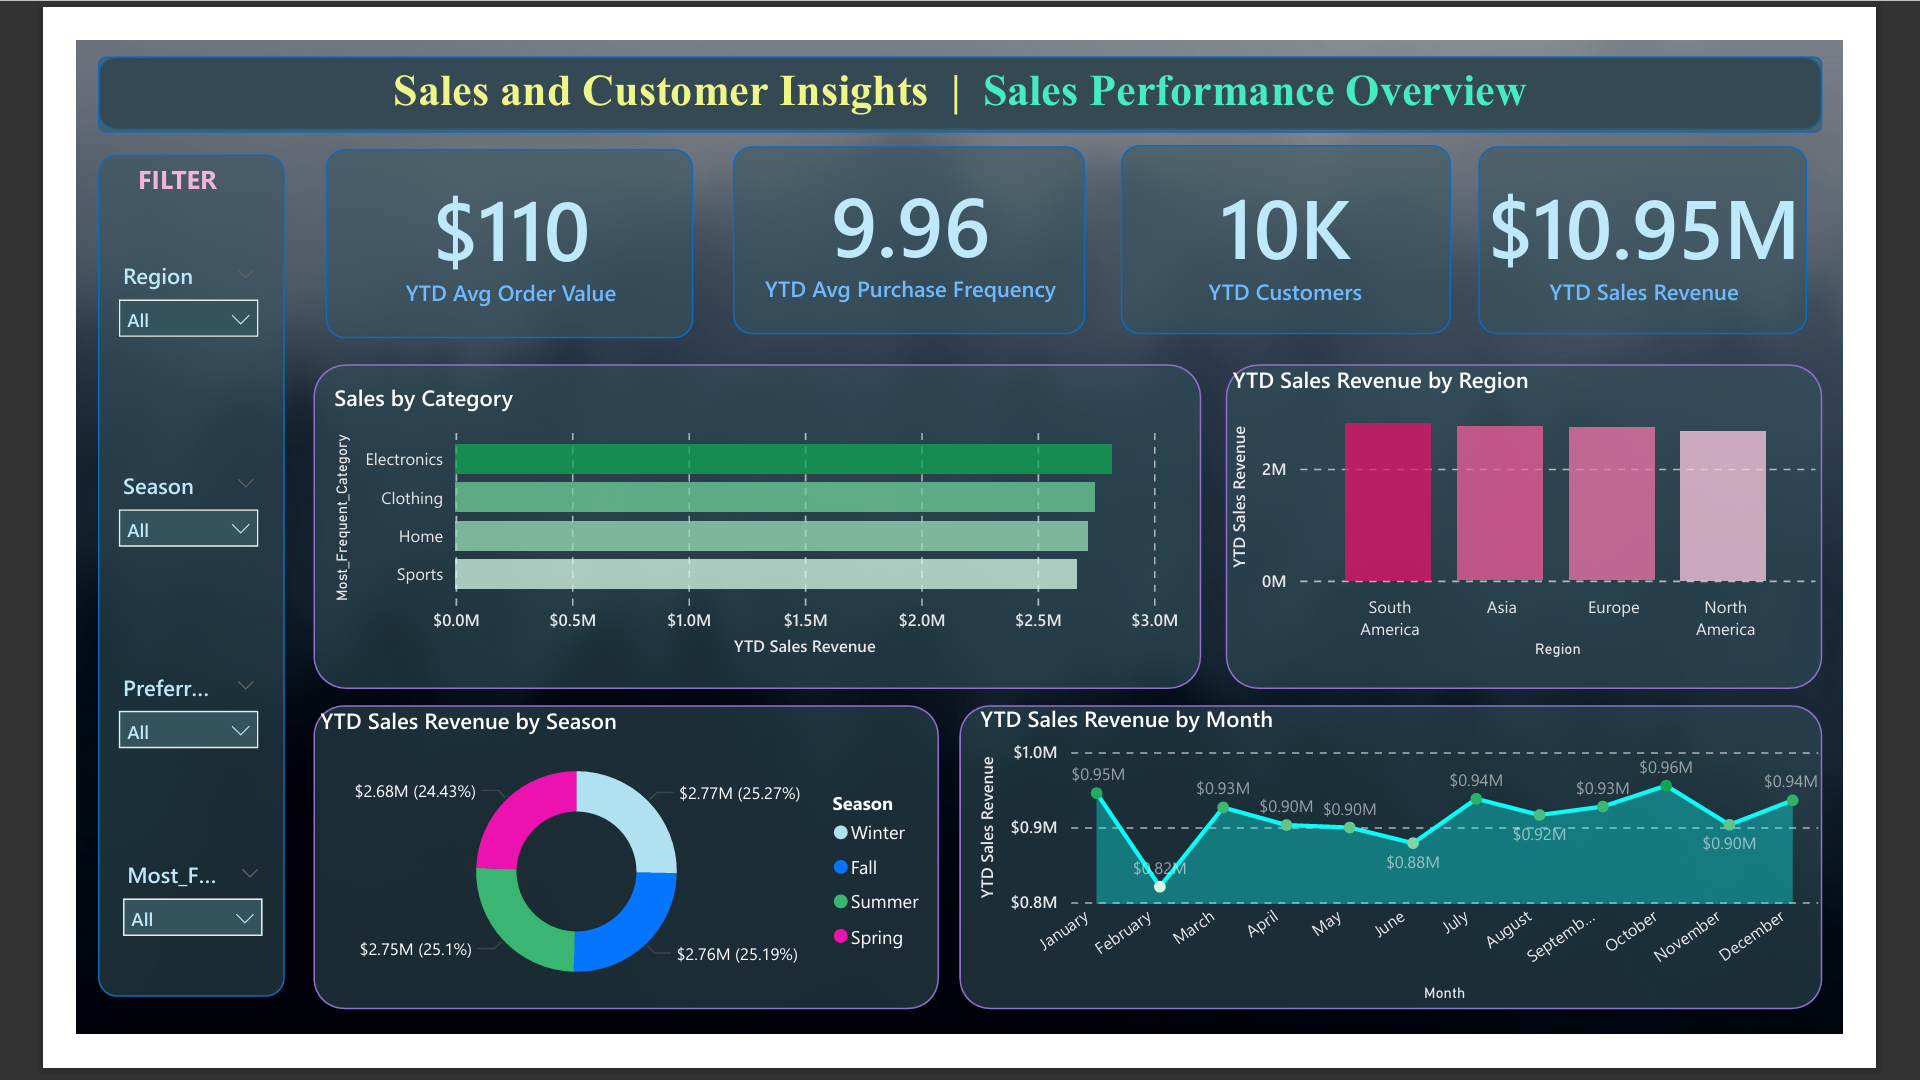

What the dashboard file says about the page in this screenshot:
{"tool":"powerbi","page":{"name":"Page 1","canvas":[1280,720],"ordinal":0},"visuals":[{"type":"shape","box":[15.9,11.6,1249.3,53.6],"z":0},{"type":"shape","box":[15.5,12.4,1250,54.4],"z":1000},{"type":"shape","box":[15.7,82.9,135.7,610],"z":2000},{"type":"shape","box":[181.4,78.6,265.7,137.1],"z":3000},{"type":"shape","box":[475.7,77.1,255.7,135.7],"z":4000},{"type":"shape","box":[757.1,75.7,238.6,137.1],"z":5000},{"type":"shape","box":[1015.7,77.1,238.6,135.7],"z":6000},{"type":"shape","box":[171.7,235,643.3,235],"z":7000},{"type":"shape","box":[833.3,235,431.7,235],"z":8000},{"type":"shape","box":[171.7,481.7,453.3,220],"z":9000},{"type":"shape","box":[640,481.7,625,220],"z":10000},{"type":"textbox","box":[15.9,13,1249.3,55.1],"z":11000},{"type":"card","fields":{"Values":["sales_and_customer_insights.YTD Avg Order Value"]},"box":[195.7,78.6,238.6,131.4],"z":12000},{"type":"card","fields":{"Values":["sales_and_customer_insights.YTD Avg Purchase Frequency"]},"box":[485.7,75.7,237.1,131.4],"z":13000},{"type":"card","fields":{"Values":["sales_and_customer_insights.YTD Customers"]},"box":[755.7,75.7,240,135.7],"z":14000},{"type":"card","fields":{"Values":["sales_and_customer_insights.YTD Sales Revenue"]},"box":[1012.9,82.9,245.7,121.4],"z":15000},{"type":"slicer","fields":{"Values":["sales_and_customer_insights.Region"]},"box":[21.4,154.6,121.4,90.8],"z":16000,"group":"g1"},{"type":"barChart","title":"Sales by Category","fields":{"Category":["sales_and_customer_insights.Most_Frequent_Category"],"Y":["sales_and_customer_insights.YTD Sales Revenue"]},"box":[181.7,248.3,621.7,203.3],"z":16000},{"type":"textbox","box":[39.9,82.9,73.8,65.6],"z":17000,"group":"g1"},{"type":"columnChart","fields":{"Y":["sales_and_customer_insights.YTD Sales Revenue"],"Category":["sales_and_customer_insights.Region"]},"box":[833.3,235,431.7,216.7],"z":17000},{"type":"slicer","fields":{"Values":["sales_and_customer_insights.Season"]},"box":[21.4,307,121.4,90.8],"z":18000,"group":"g1"},{"type":"lineChart","fields":{"Category":["sales_and_customer_insights.Peak_Sales_Date.Variation.Date Hierarchy.Month"],"Y":["sales_and_customer_insights.YTD Sales Revenue"]},"box":[650,481.4,617.1,220],"z":18000},{"type":"slicer","fields":{"Values":["sales_and_customer_insights.Preferred_Purchase_Times"]},"box":[21.4,453,121.4,90.8],"z":19000,"group":"g1"},{"type":"donutChart","fields":{"Y":["sales_and_customer_insights.YTD Sales Revenue"],"Category":["sales_and_customer_insights.Season"]},"box":[171.7,481.7,453.3,220],"z":19000},{"type":"group","id":"g1","title":"Group 1","box":[21.4,82.9,124.3,597.1],"z":20000},{"type":"slicer","fields":{"Values":["sales_and_customer_insights.Most_Frequent_Category"]},"box":[24.3,589.2,121.4,90.8],"z":20000,"group":"g1"}]}

Visuals, with their boxes in screenshot pixels (x1, y1, x2, y2), scaled from the page's 1280x720 canvas onto the 1920x1080 screenshot:
shape: 24, 17, 1898, 98
shape: 23, 19, 1898, 100
shape: 24, 124, 227, 1039
shape: 272, 118, 671, 324
shape: 714, 116, 1097, 319
shape: 1136, 114, 1494, 319
shape: 1524, 116, 1881, 319
shape: 258, 352, 1222, 705
shape: 1250, 352, 1898, 705
shape: 258, 723, 938, 1053
shape: 960, 723, 1898, 1053
textbox: 24, 20, 1898, 102
card - sales_and_customer_insights.YTD Avg Order Value: 294, 118, 651, 315
card - sales_and_customer_insights.YTD Avg Purchase Frequency: 729, 114, 1084, 311
card - sales_and_customer_insights.YTD Customers: 1134, 114, 1494, 317
card - sales_and_customer_insights.YTD Sales Revenue: 1519, 124, 1888, 306
slicer - sales_and_customer_insights.Region: 32, 232, 214, 368
"Sales by Category" barChart: 273, 372, 1205, 677
textbox: 60, 124, 171, 223
columnChart - sales_and_customer_insights.YTD Sales Revenue x sales_and_customer_insights.Region: 1250, 352, 1898, 678
slicer - sales_and_customer_insights.Season: 32, 460, 214, 597
lineChart - sales_and_customer_insights.Peak_Sales_Date.Variation.Date Hierarchy.Month x sales_and_customer_insights.YTD Sales Revenue: 975, 722, 1901, 1052
slicer - sales_and_customer_insights.Preferred_Purchase_Times: 32, 680, 214, 816
donutChart - sales_and_customer_insights.YTD Sales Revenue x sales_and_customer_insights.Season: 258, 723, 938, 1053
"Group 1" group: 32, 124, 219, 1020
slicer - sales_and_customer_insights.Most_Frequent_Category: 36, 884, 219, 1020
